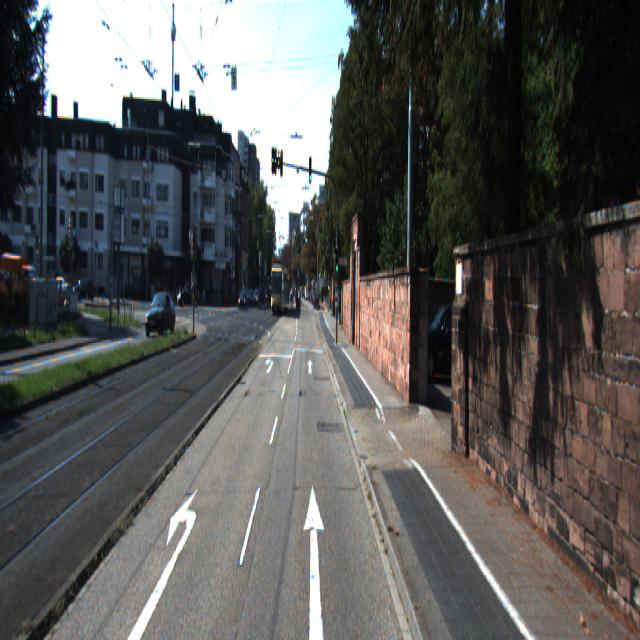Car: (144, 292, 175, 338)
